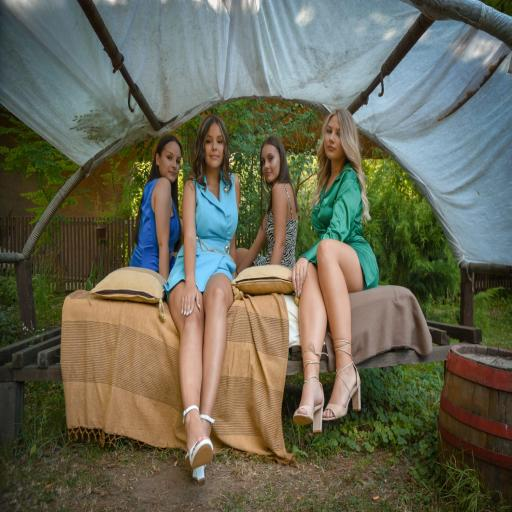marija: (158, 139, 184, 182)
